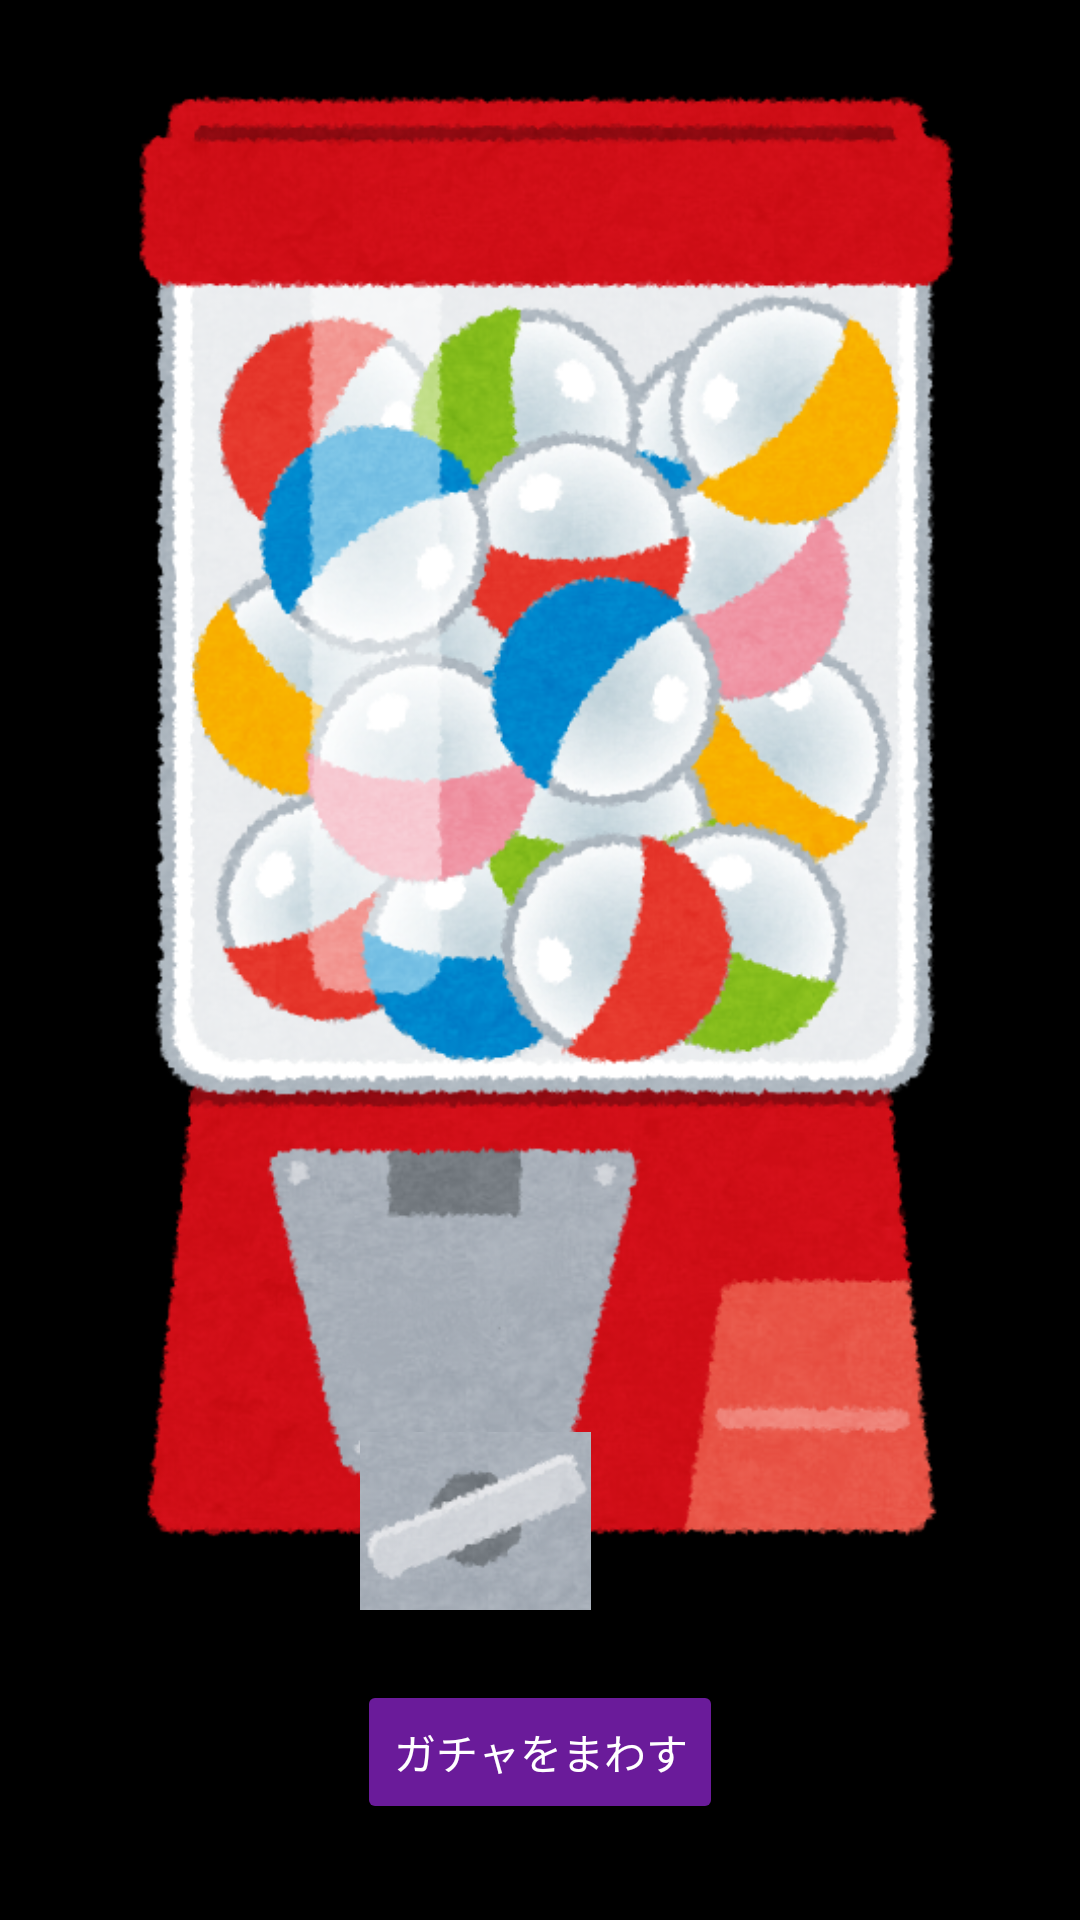

Where to tap for icons on this 1080 × 1920 app screen, as point (x, y):
handle: point (475, 1521)
